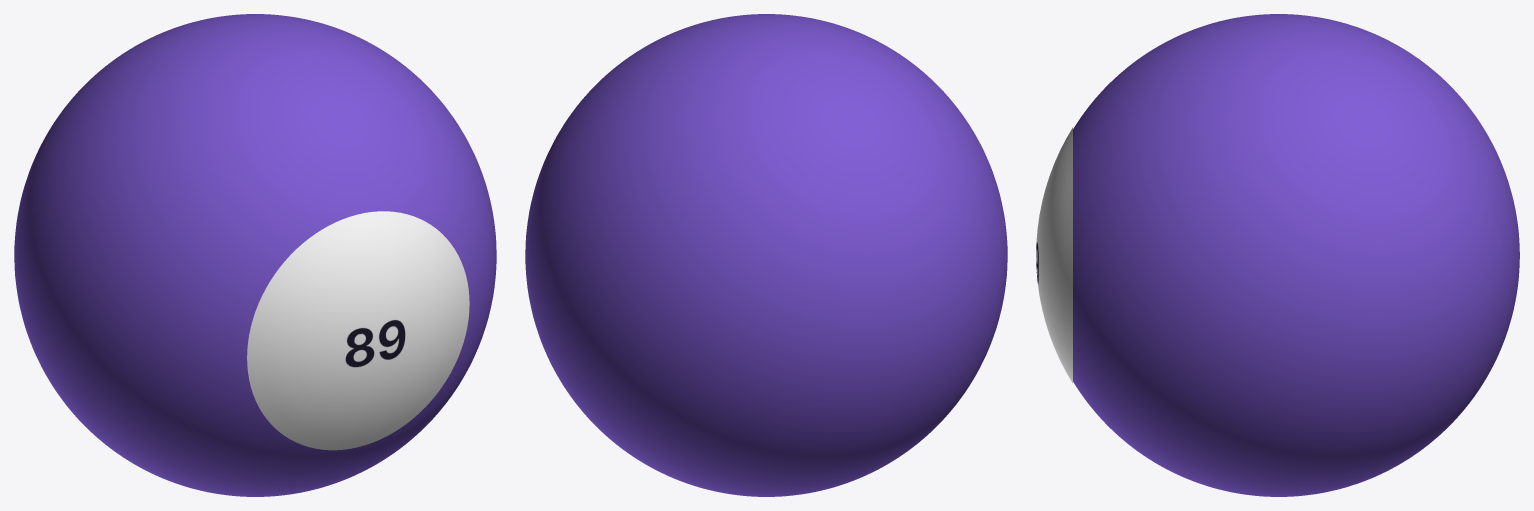
File: ball-89.glb
The picture shows the model from 3 angles, left to right: view 1: azimuth 30°, elevation 25°; view 2: azimuth 150°, elevation 25°; view 3: azimuth 270°, elevation 25°; orthographic projection.
Visible parts, largest first — view 1: Ball_89_Shell, Ball_89_Number_Disc; view 2: Ball_89_Shell; view 3: Ball_89_Shell, Ball_89_Number_Disc.
Boxes of the visible parts, x1=… form: Ball_89_Shell: x1=14, y1=14, x2=496, y2=496; Ball_89_Number_Disc: x1=247, y1=211, x2=469, y2=450; Ball_89_Shell: x1=525, y1=14, x2=1007, y2=496; Ball_89_Shell: x1=1073, y1=14, x2=1519, y2=496; Ball_89_Number_Disc: x1=1036, y1=127, x2=1072, y2=383.
Size of the model in its own units: 1.84 by 1.84 by 1.84.
Materials: 2 (1 with a texture image).
